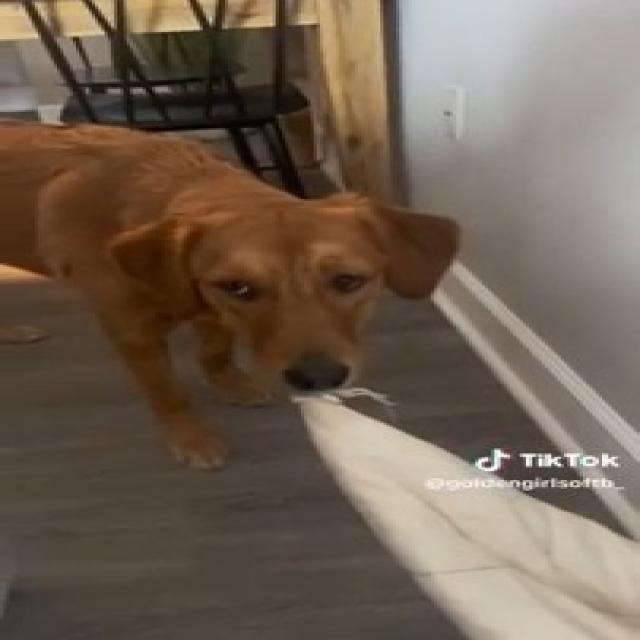dogs: (0, 109, 469, 484)
